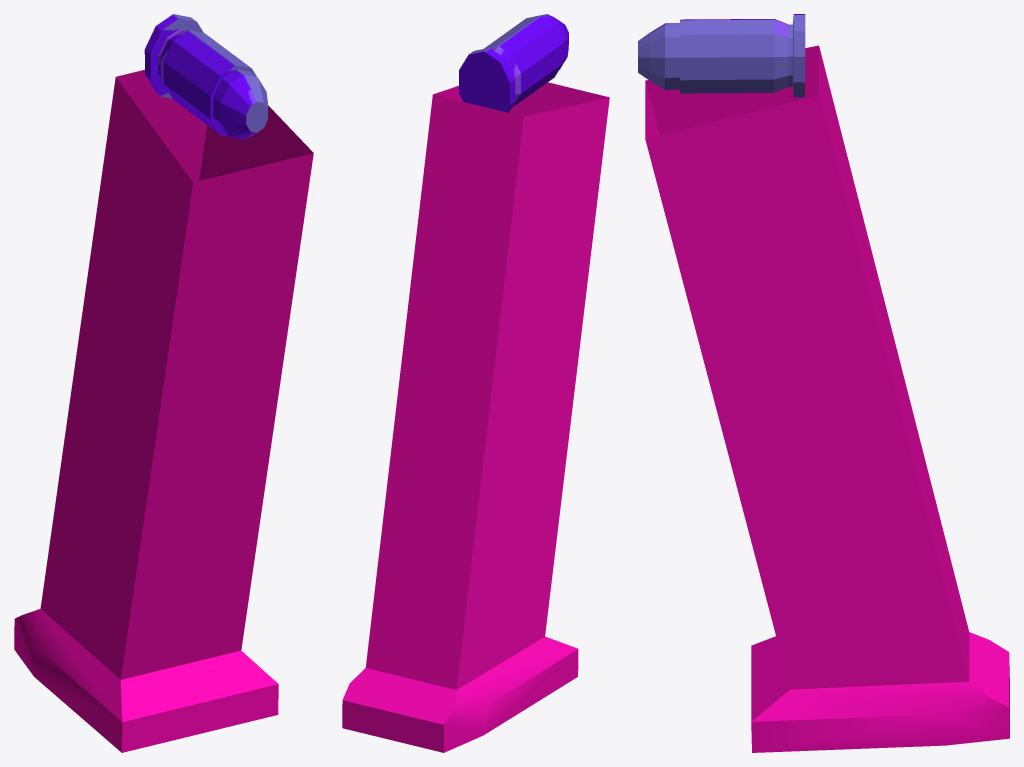
Rendered from pistol_mag.glb.
3 renders of one model, left to right at view 1: azimuth 30°, elevation 25°; view 2: azimuth 150°, elevation 25°; view 3: azimuth 270°, elevation 25°, orthographic. The views are drawn at different scales.
Visible parts, largest first — view 1: pistol.002; view 2: pistol.002; view 3: pistol.002.
Part boxes in pixels (x1,y1,x2,y2): pistol.002: (14, 14, 313, 752); pistol.002: (342, 14, 609, 752); pistol.002: (638, 14, 1009, 752).
Size of the model in its own units: 0.0374 by 0.16 by 0.077.
Materials: 1 (1 with a texture image).
